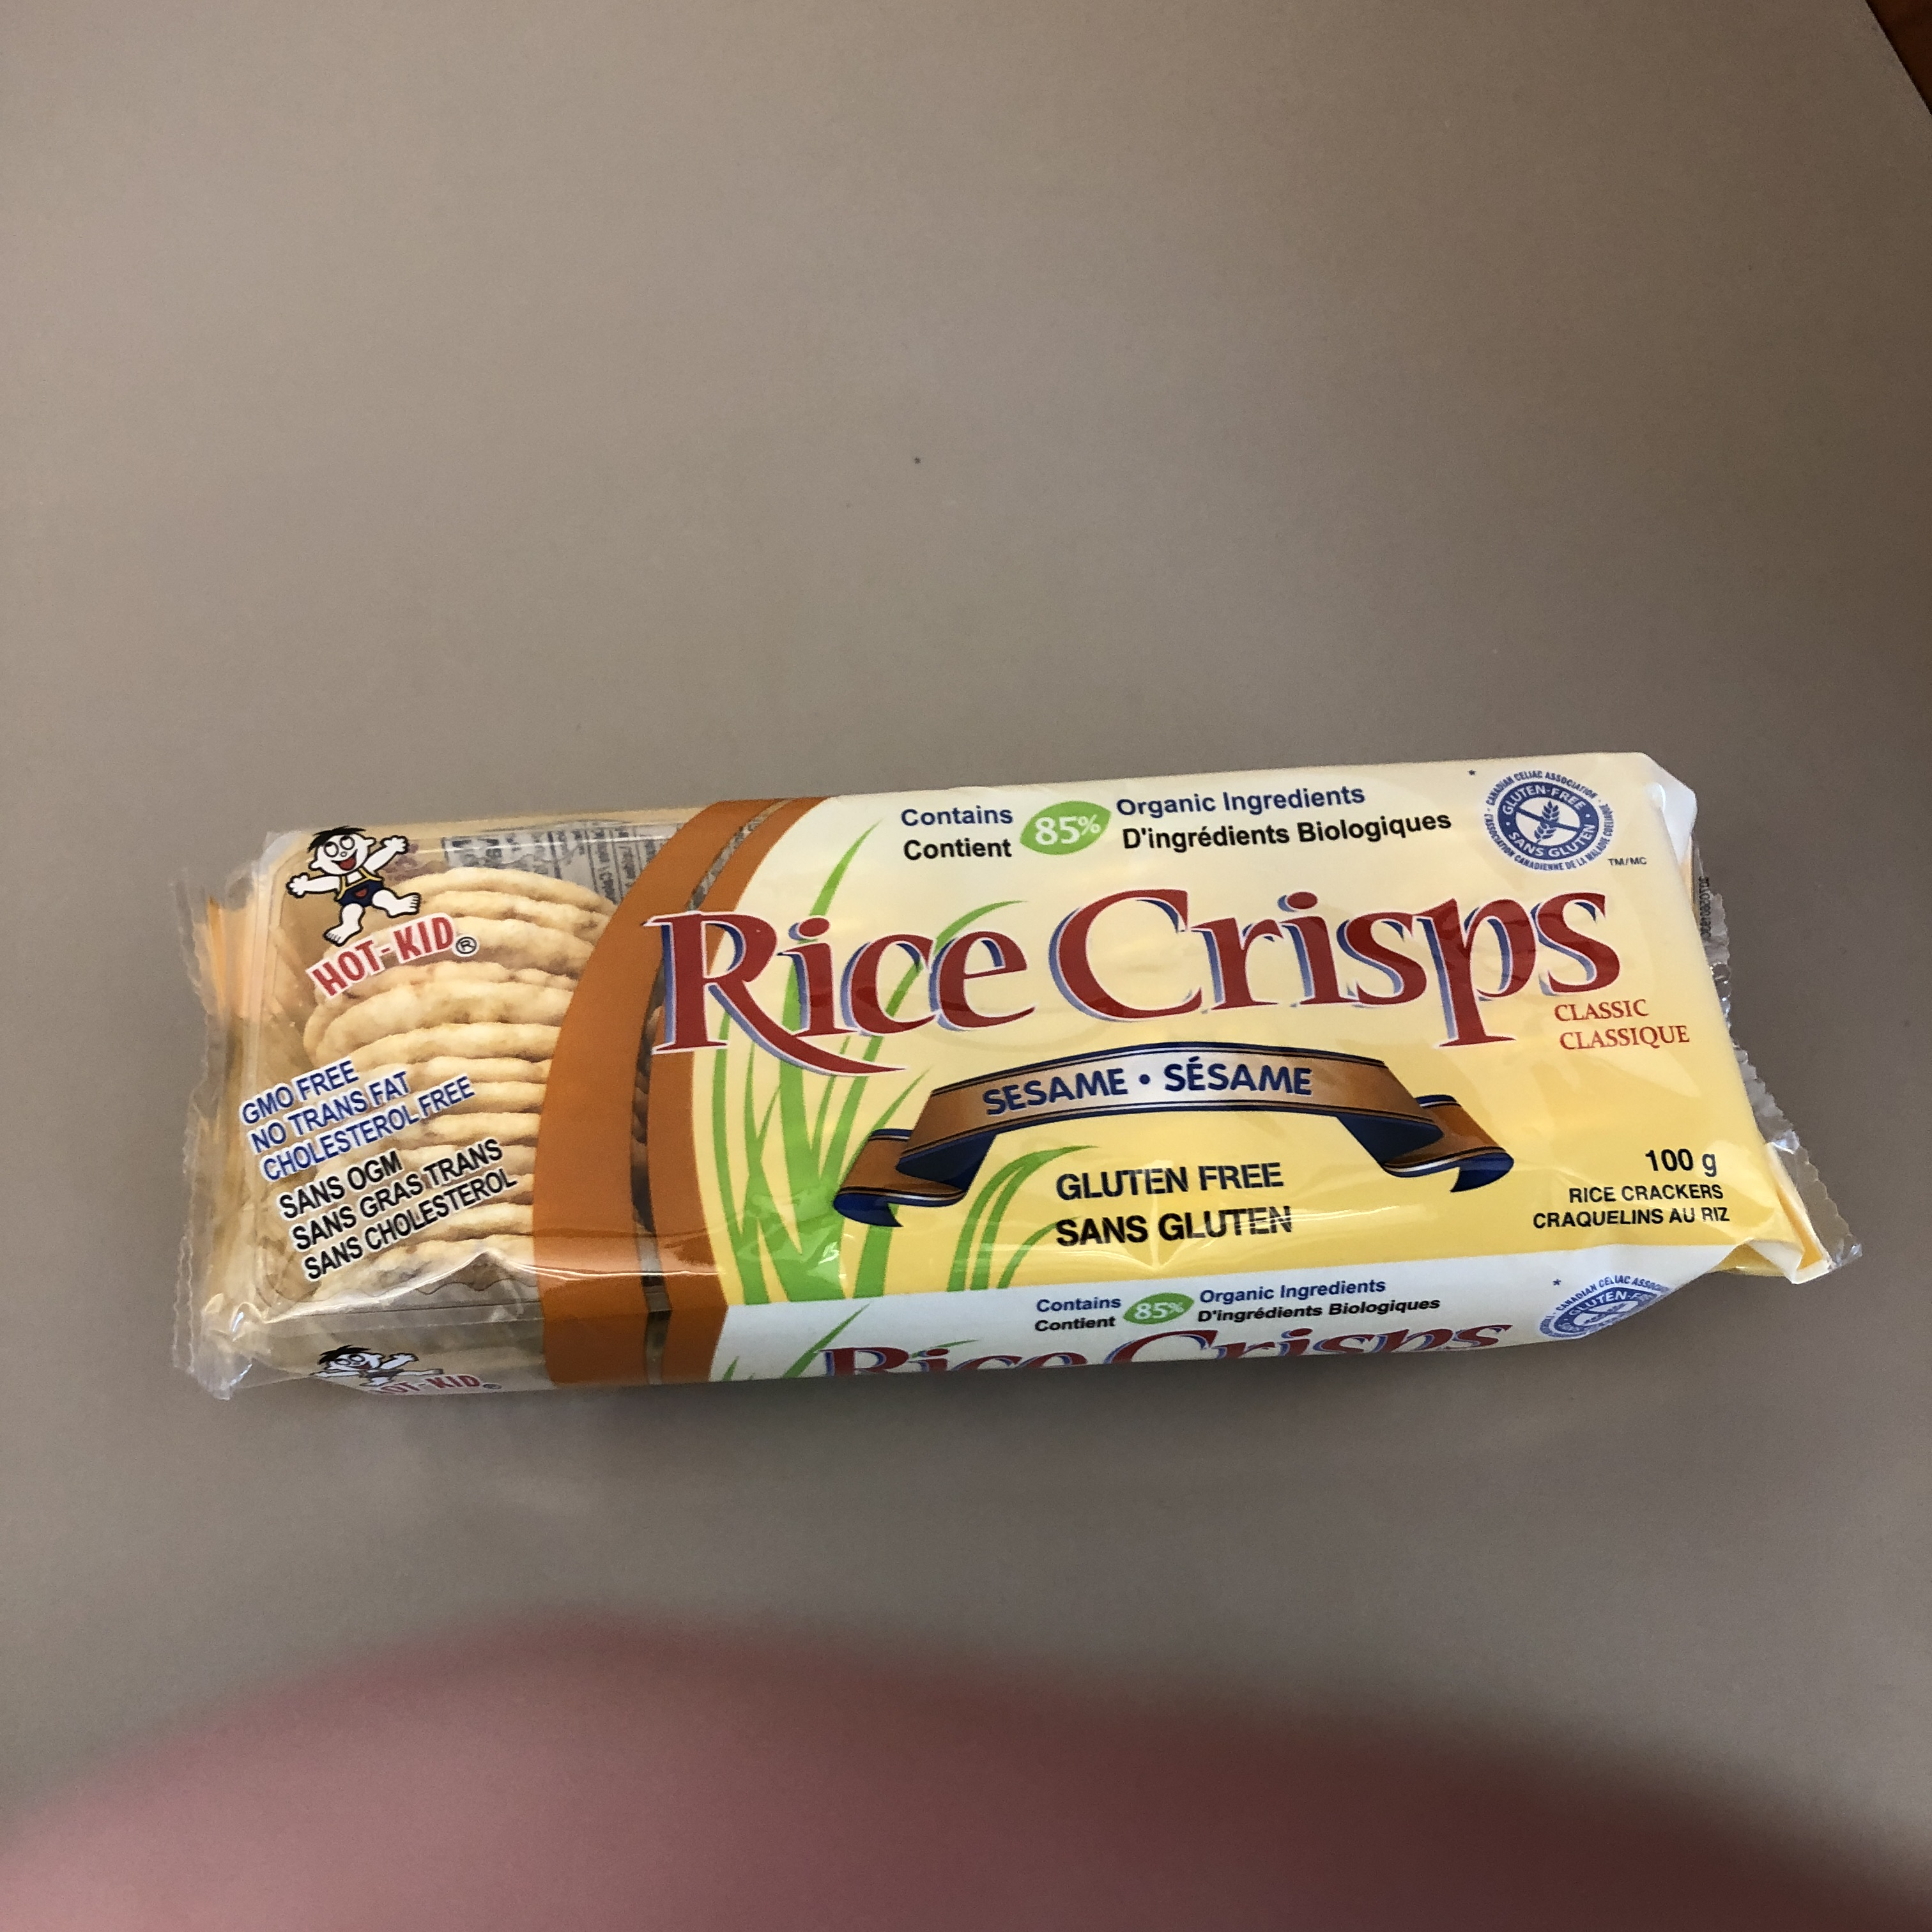hot_kid_rice_crisps_sesame: (544, 195, 1176, 1665)
